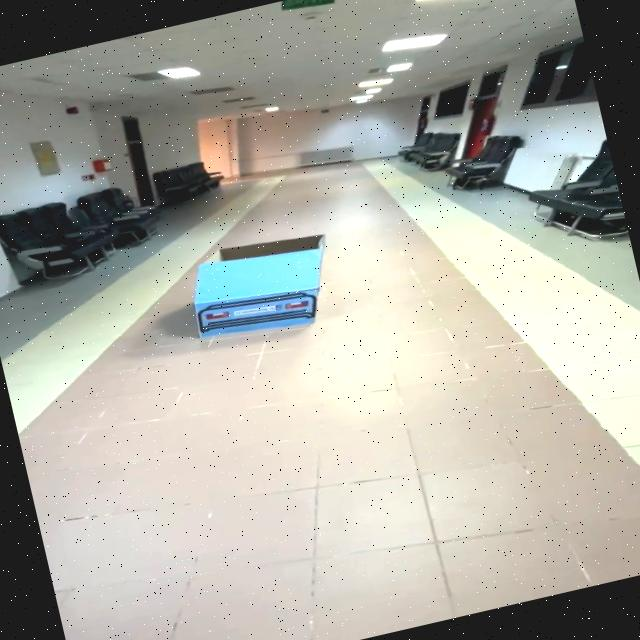blue_car: (146, 207, 385, 368)
